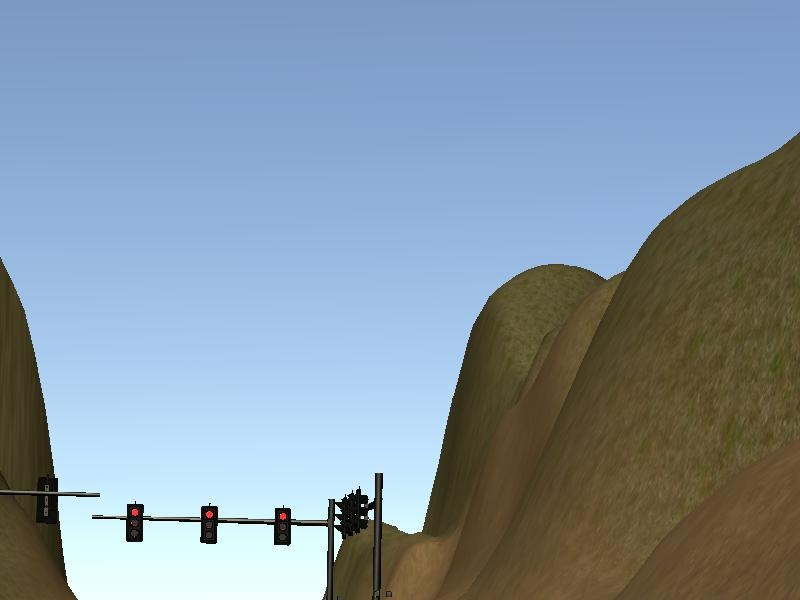red: (127, 505, 145, 543), (274, 507, 291, 545), (202, 505, 217, 543)
